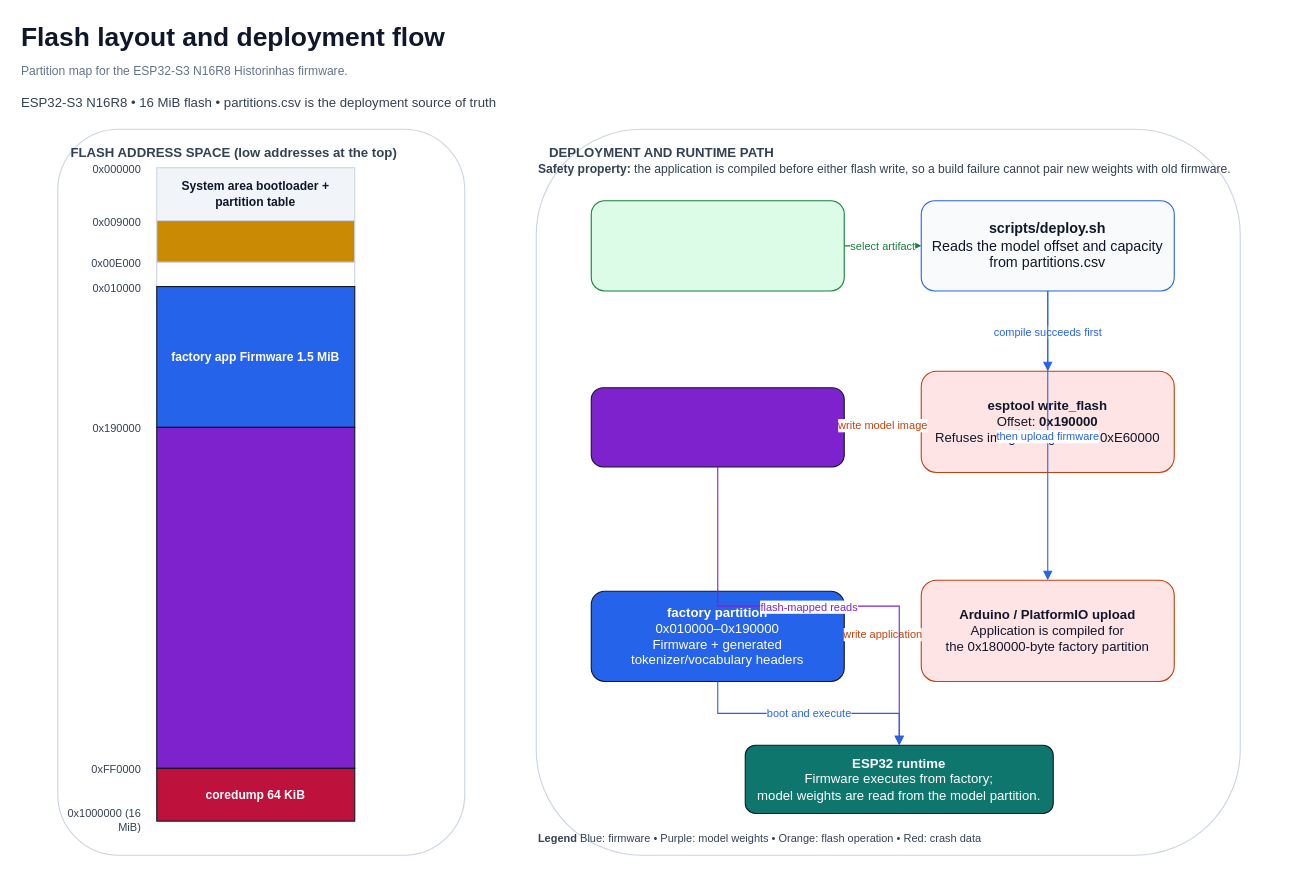
This 1291x875 diagram has some shape labels left out. Each missing label, with the centre of its shape:
"artifacts/model.bin Int4 PLE image 14,912,348 bytes for V2" belongs at (717,245).
"model Memory-mapped `model.bin` 14.375 MiB" belongs at (255,597).
"model partition 0x190000–0xFF0000 Memory-mapped weights" belongs at (717,427).
"NVS 20 KiB" belongs at (255,240).
"Unallocated 8 KiB" belongs at (255,274).
